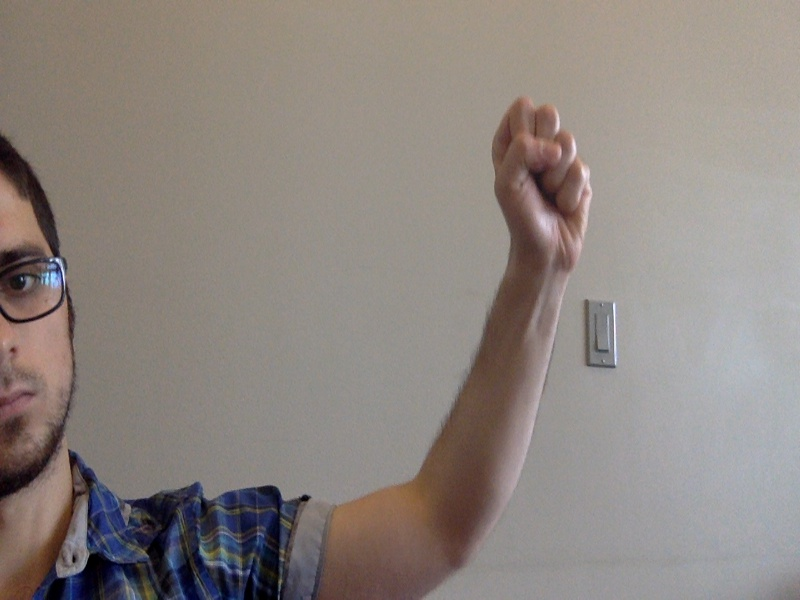0-hand: (491, 97, 592, 270)
